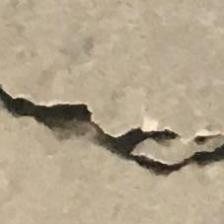Crack: (0, 72, 224, 182)
